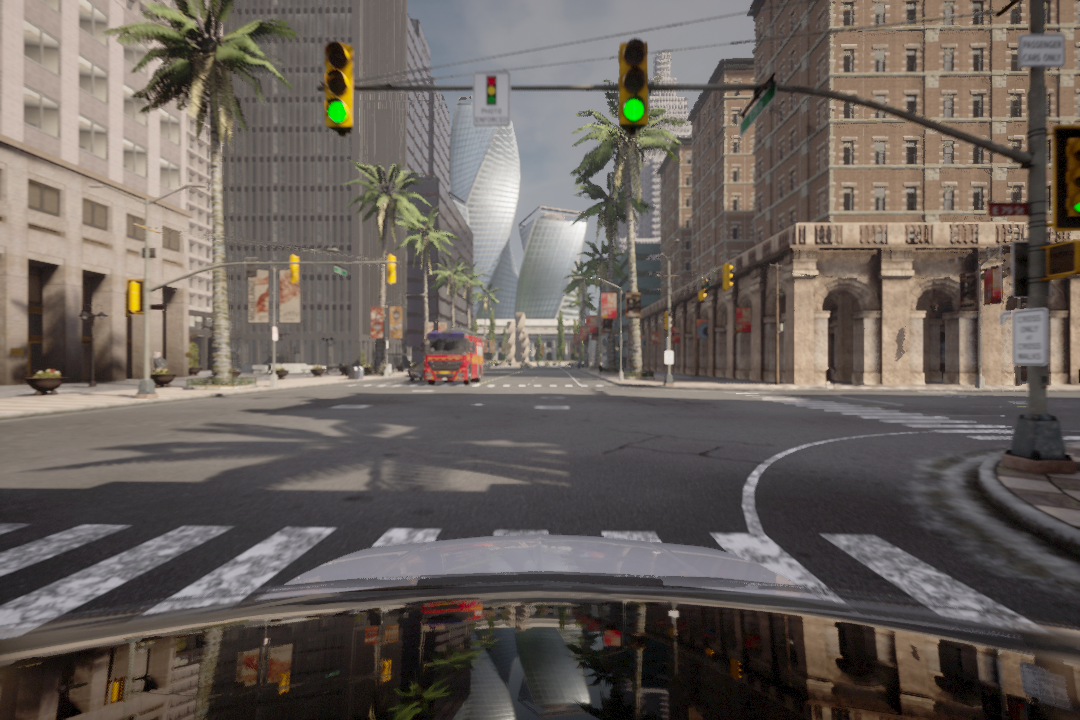TrafficLight: (618, 38, 651, 126), (324, 43, 356, 131)
walkside: (2, 517, 1048, 645), (343, 381, 607, 391)
